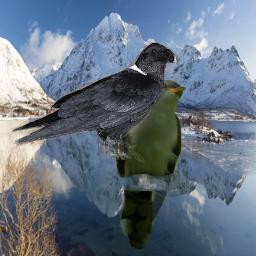Crow: (8, 42, 181, 165)
Cuckoo: (113, 79, 186, 249)
